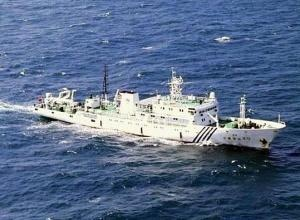warship: (21, 70, 284, 150)
